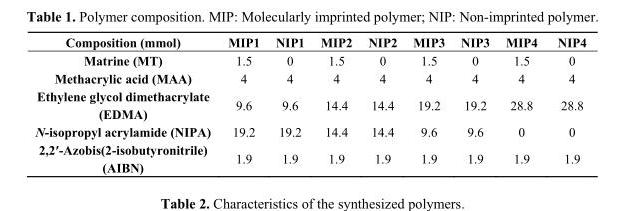table: (34, 34, 585, 174)
table column: (34, 34, 218, 174), (496, 34, 546, 174), (218, 34, 266, 174), (311, 34, 359, 174), (404, 34, 452, 174), (266, 34, 311, 174), (359, 34, 404, 174), (452, 34, 496, 174), (546, 34, 585, 174)
table column header: (34, 34, 585, 51)
table row: (34, 86, 585, 122), (34, 140, 585, 174), (34, 51, 585, 69), (34, 122, 585, 140), (34, 34, 585, 51), (34, 69, 585, 86)
